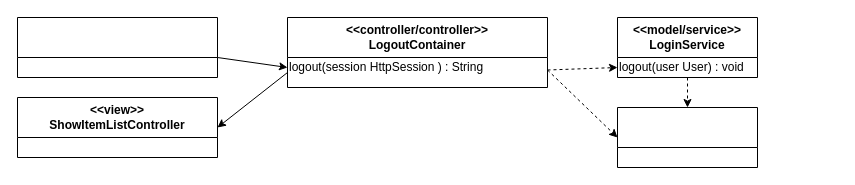
Some shapes in this 855 by 185 pixel diagram are drawn without their labels. Here are the shapes that lost their labels. From the top down, the centre of each, then its label:
(x=117, y=47): <<view>> login.html
(x=687, y=137): <<model/domain>> User
